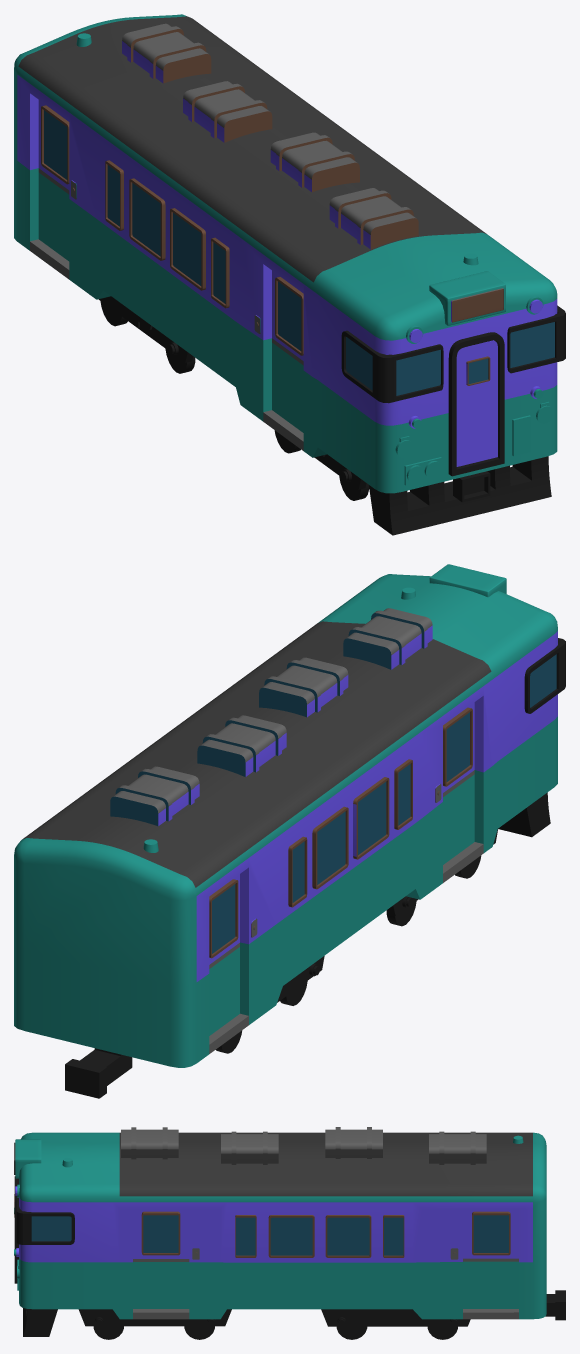
Rendered from blur train head.FBX.
3 renders of one model, top to bottom at view 1: azimuth 30°, elevation 25°; view 2: azimuth 150°, elevation 25°; view 3: azimuth 270°, elevation 25°, orthographic. The views are drawn at different scales.
Visible parts, largest first — view 1: Object002; view 2: Object002; view 3: Object002.
Part boxes in pixels (x1,y1,x2,y2): Object002: (14,14,565,535); Object002: (14,564,565,1098); Object002: (14,1127,565,1339).
Bounding box in the file's own units: 41.11 × 54.76 × 151.
